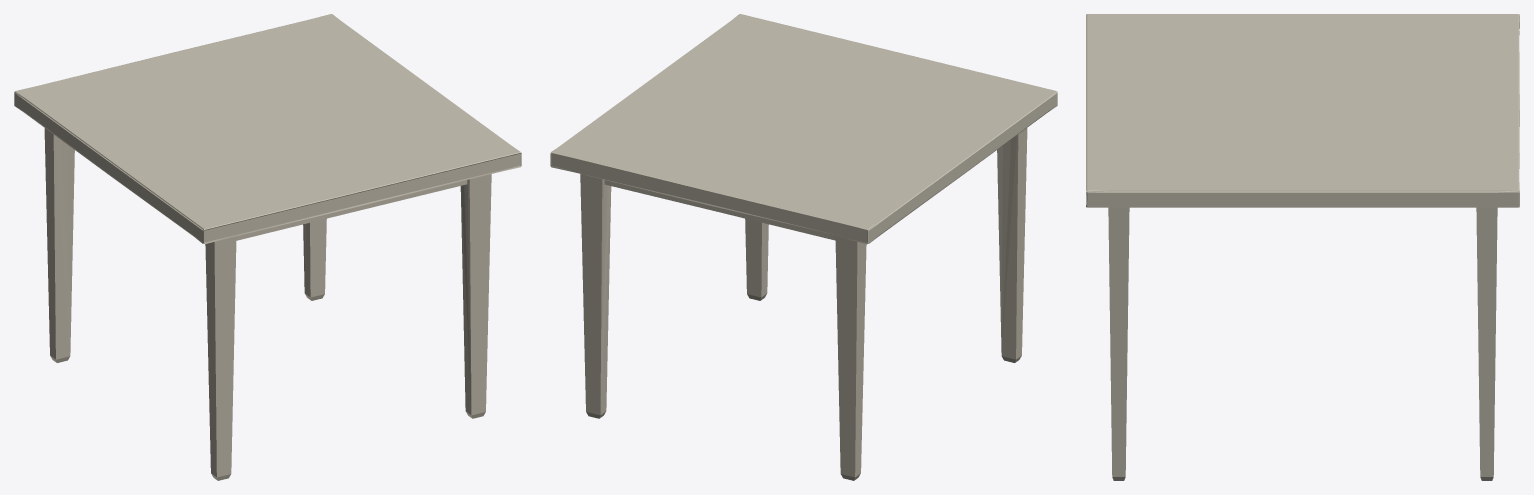
Rendered from Quadrat_Tisch.glb.
The picture shows the model from 3 angles, left to right: view 1: azimuth 30°, elevation 25°; view 2: azimuth 150°, elevation 25°; view 3: azimuth 270°, elevation 25°; orthographic projection. The views are drawn at different scales.
Visible parts, largest first — view 1: Quadrat Tisch; view 2: Quadrat Tisch; view 3: Quadrat Tisch.
Part boxes in pixels (x1=…): Quadrat Tisch: x1=14, y1=14, x2=521, y2=480; Quadrat Tisch: x1=550, y1=14, x2=1057, y2=480; Quadrat Tisch: x1=1086, y1=14, x2=1519, y2=480.
Bounding box in the file's own units: 2.11 × 1.69 × 2.18.
